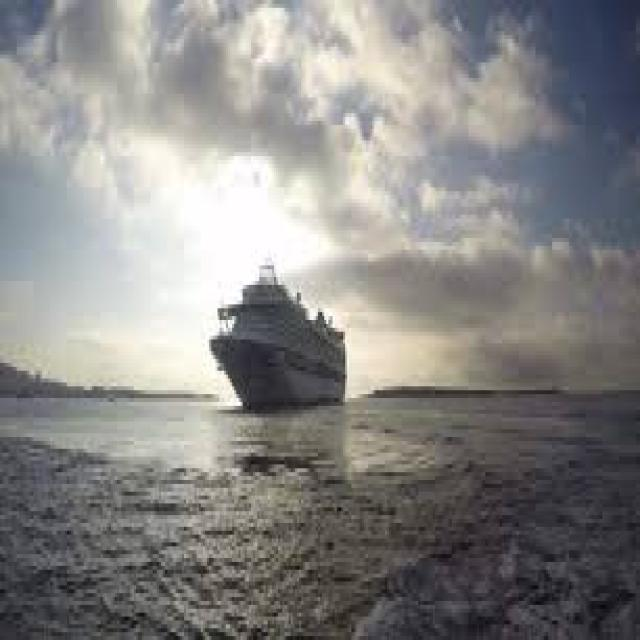passenger ship: (208, 258, 354, 411)
